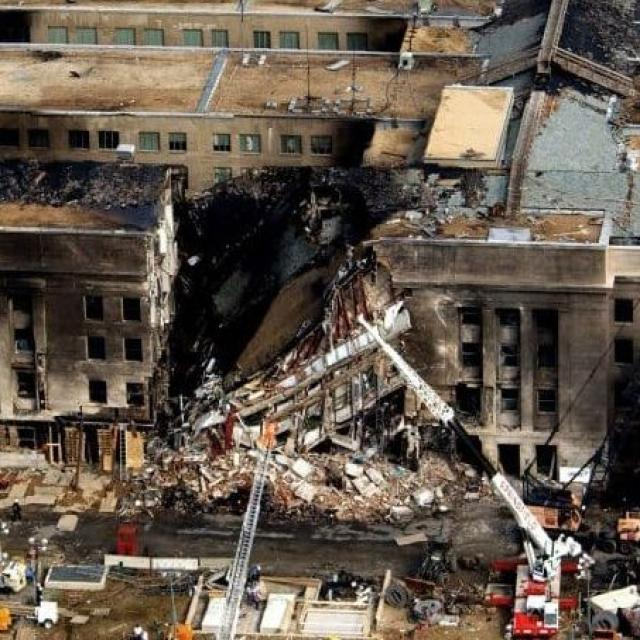collapsed_building: (182, 217, 596, 516), (2, 42, 450, 220)
